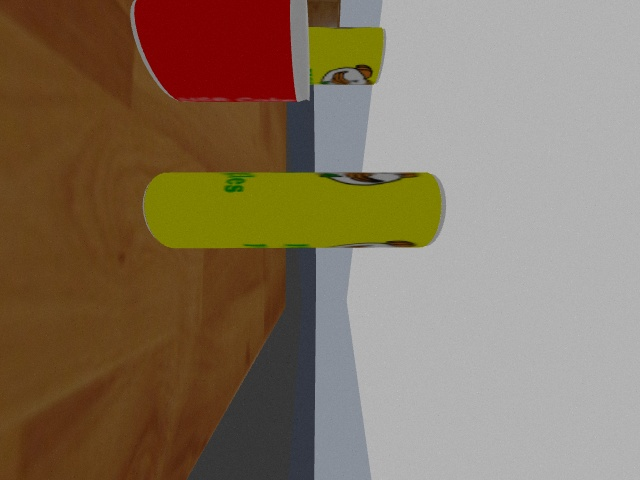chipsdose_gelb: (143, 172, 447, 247), (309, 27, 385, 86)
